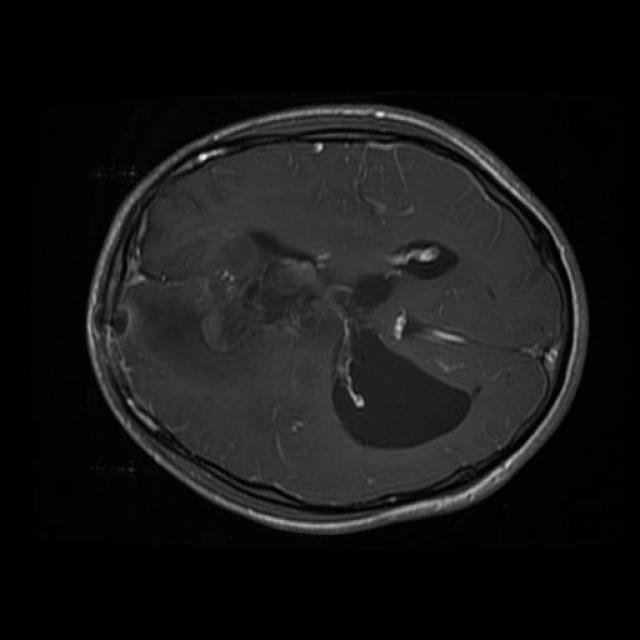Glioma: (128, 248, 369, 408), (333, 330, 471, 447)
